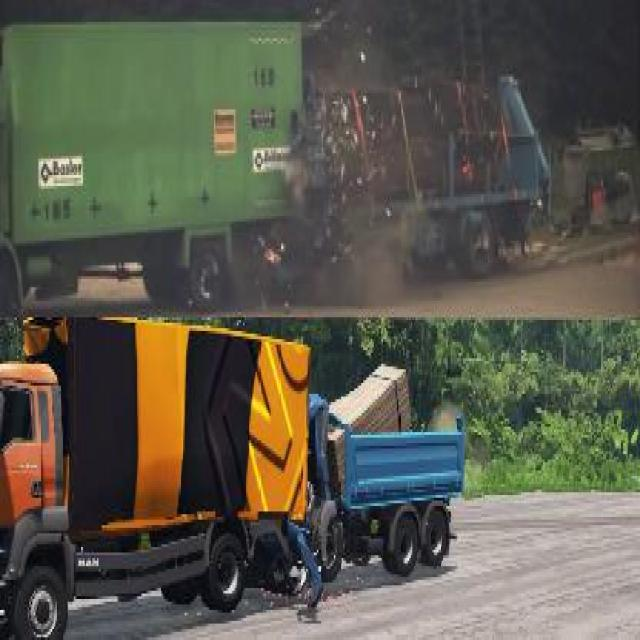accident: (0, 298, 471, 640), (0, 11, 557, 298)
